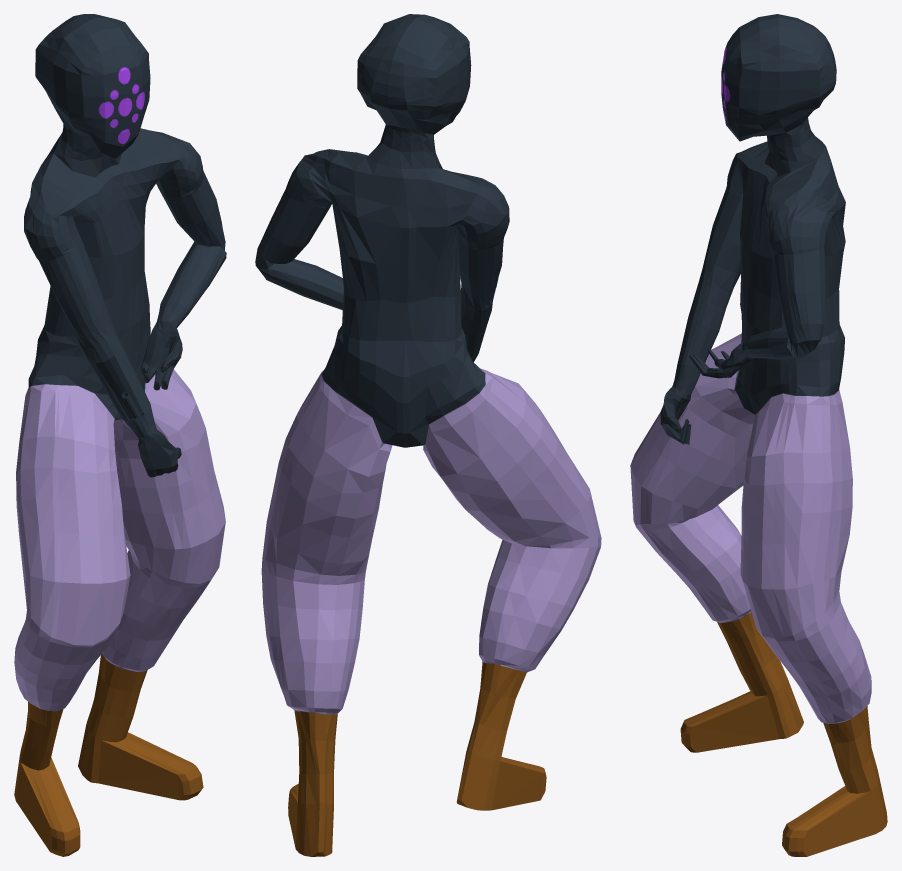
File: Oracle_WR_000010.obj
The picture shows the model from 3 angles, left to right: view 1: azimuth 30°, elevation 25°; view 2: azimuth 150°, elevation 25°; view 3: azimuth 270°, elevation 25°; orthographic projection. The views are drawn at different scales.
Parts seen in each view (by area): view 1: Cube; view 2: Cube; view 3: Cube.
Part boxes in pixels (x1,y1,x2,y2): Cube: (14,14,226,856); Cube: (255,14,601,856); Cube: (630,14,887,856).
Bounding box in the file's own units: 1.31 × 3.82 × 1.13.
